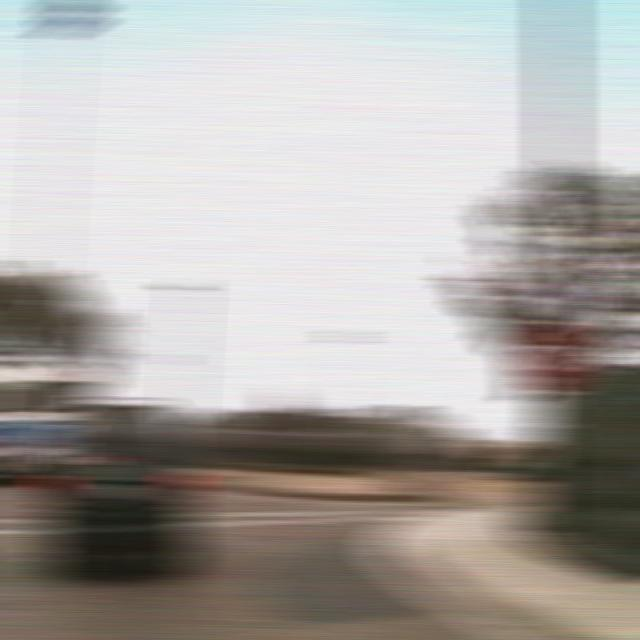stop: (519, 319, 592, 393)
